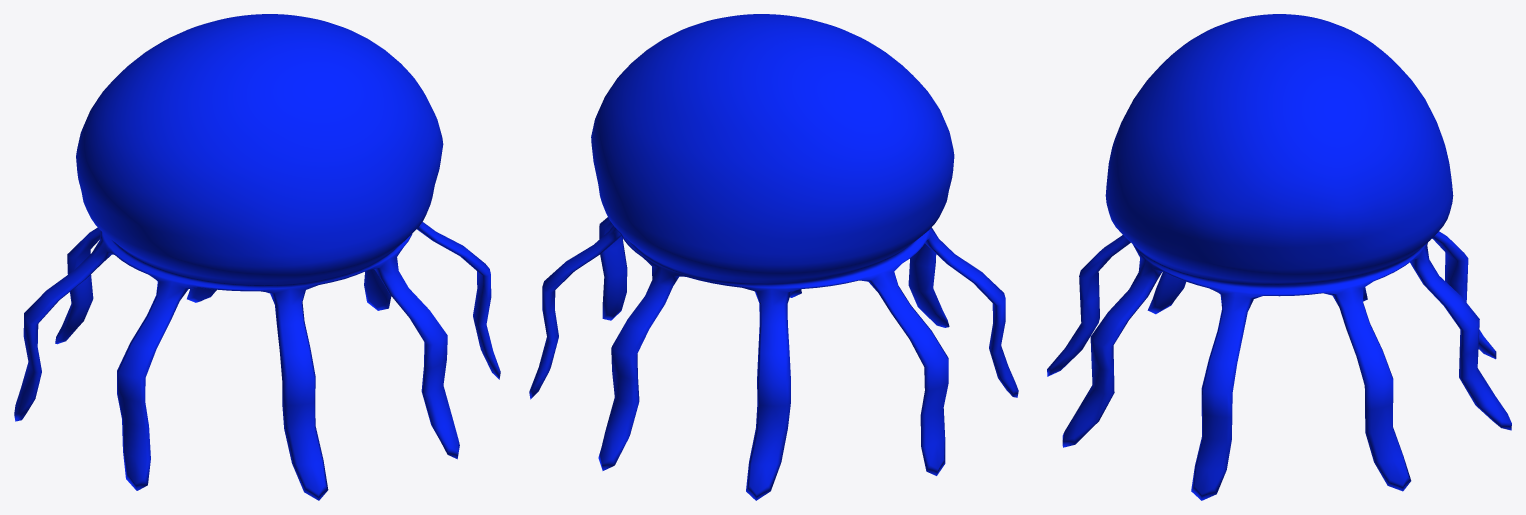
Rendered from kurage2.FBX.
The picture shows the model from 3 angles, left to right: view 1: azimuth 30°, elevation 25°; view 2: azimuth 150°, elevation 25°; view 3: azimuth 270°, elevation 25°; orthographic projection.
Visible parts, largest first — view 1: Sphere001; view 2: Sphere001; view 3: Sphere001.
Part boxes in pixels (x1=…): Sphere001: x1=14, y1=14, x2=500, y2=500; Sphere001: x1=529, y1=14, x2=1018, y2=500; Sphere001: x1=1047, y1=14, x2=1511, y2=500.
Size of the model in its own units: 116 by 115 by 101.
Materials: 1 (1 with a texture image).
